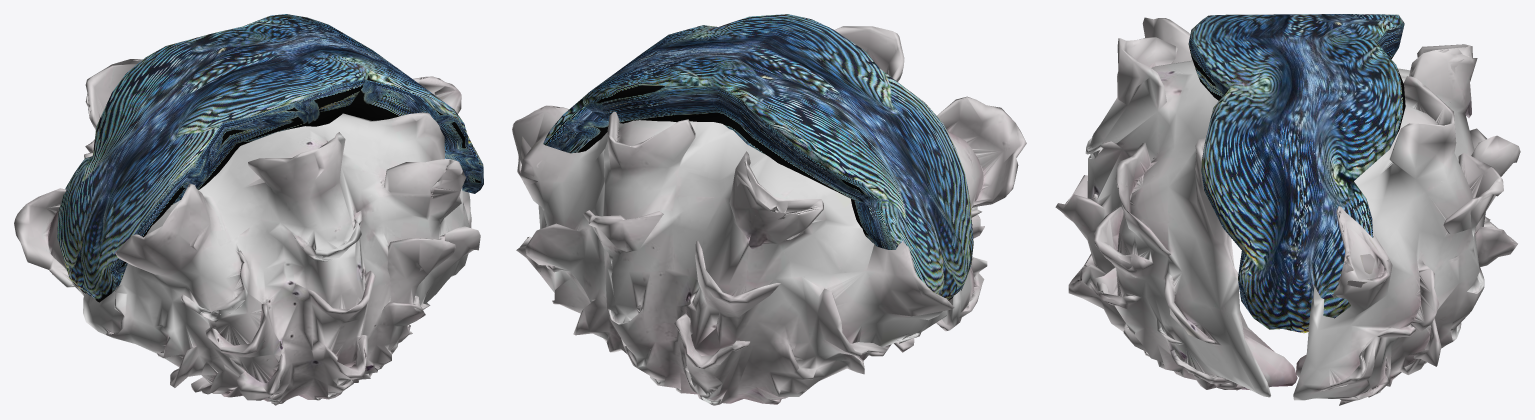
File: ocean_shell_01.glb
3 views of the same model, side by side, from view 1: azimuth 30°, elevation 25°; view 2: azimuth 150°, elevation 25°; view 3: azimuth 270°, elevation 25° (orthographic). The views are drawn at different scales.
Parts seen in each view (by area): view 1: chequ, 重构网格; view 2: chequ, 重构网格; view 3: chequ, 重构网格.
Part boxes in pixels (<box>): chequ: <box>14,59,480,405</box>; 重构网格: <box>57,14,483,302</box>; chequ: <box>512,26,1026,405</box>; 重构网格: <box>543,14,973,300</box>; chequ: <box>1055,17,1520,405</box>; 重构网格: <box>1188,14,1405,333</box>.
Bounding box in the file's own units: 0.4933 × 0.3559 × 0.4266.
2 materials, 2 textured.
